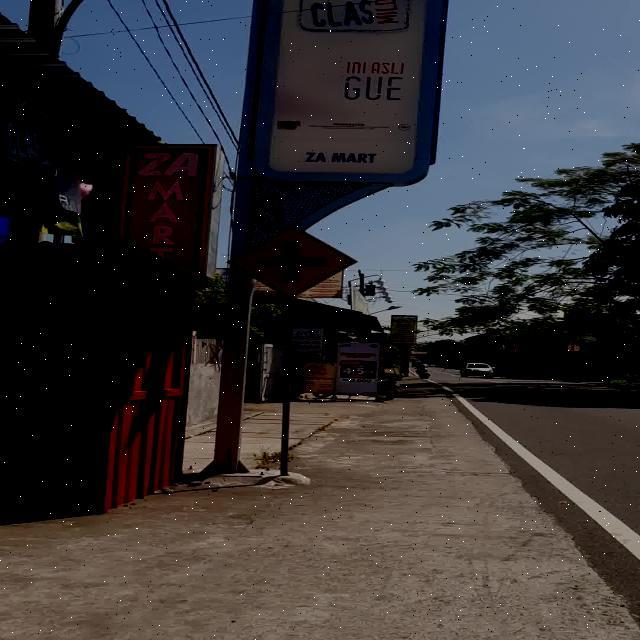Persimpangan 4: (229, 226, 356, 297)
